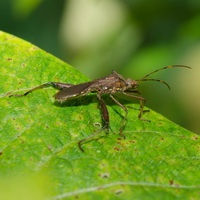insect: (7, 65, 190, 151)
